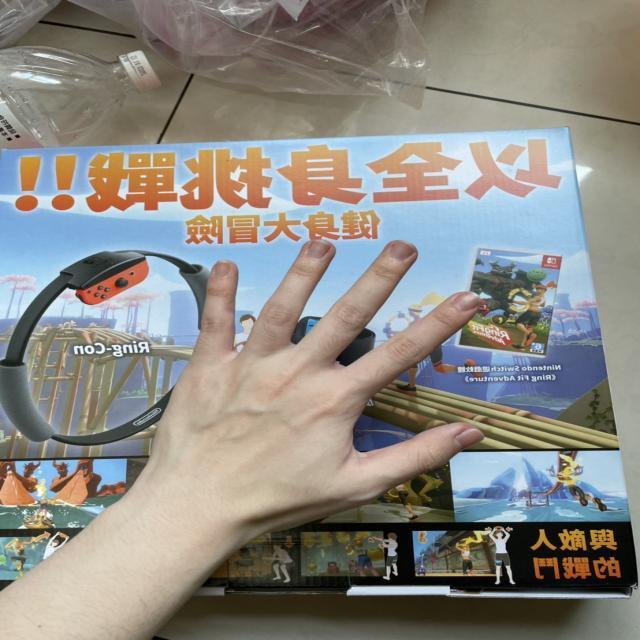hand: (120, 232, 502, 554)
